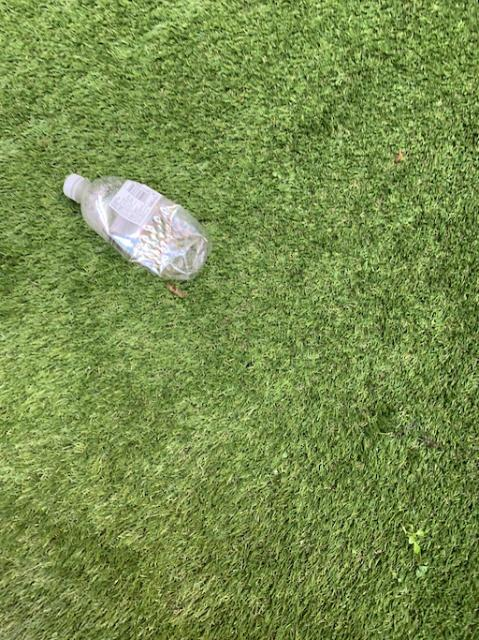plastic: (62, 172, 210, 278)
